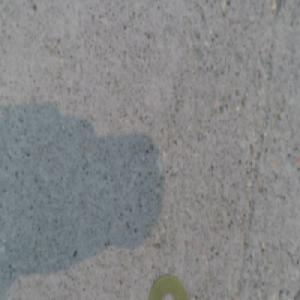Washer: (149, 274, 188, 299)
